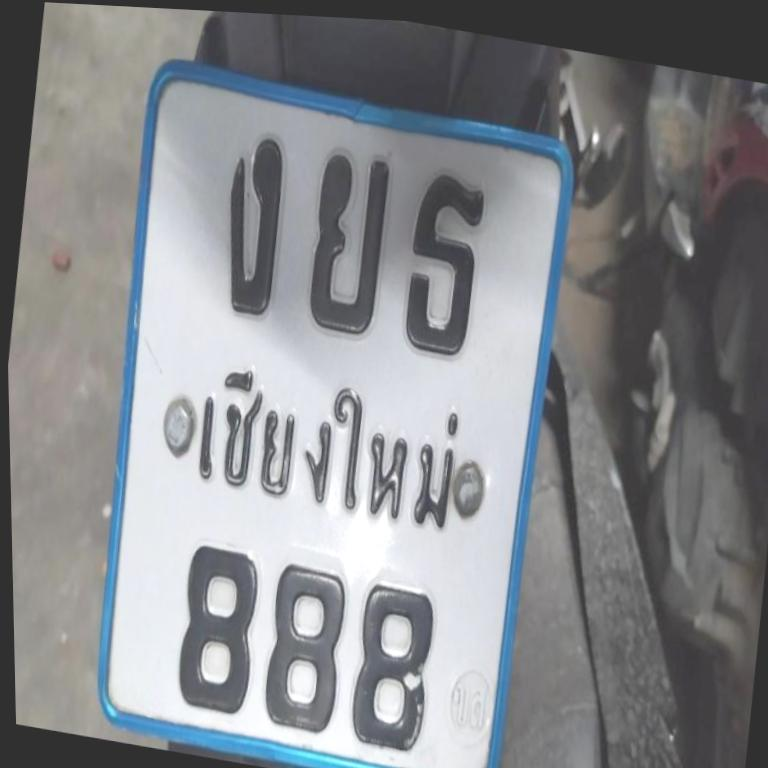license plate: (99, 60, 570, 768)
